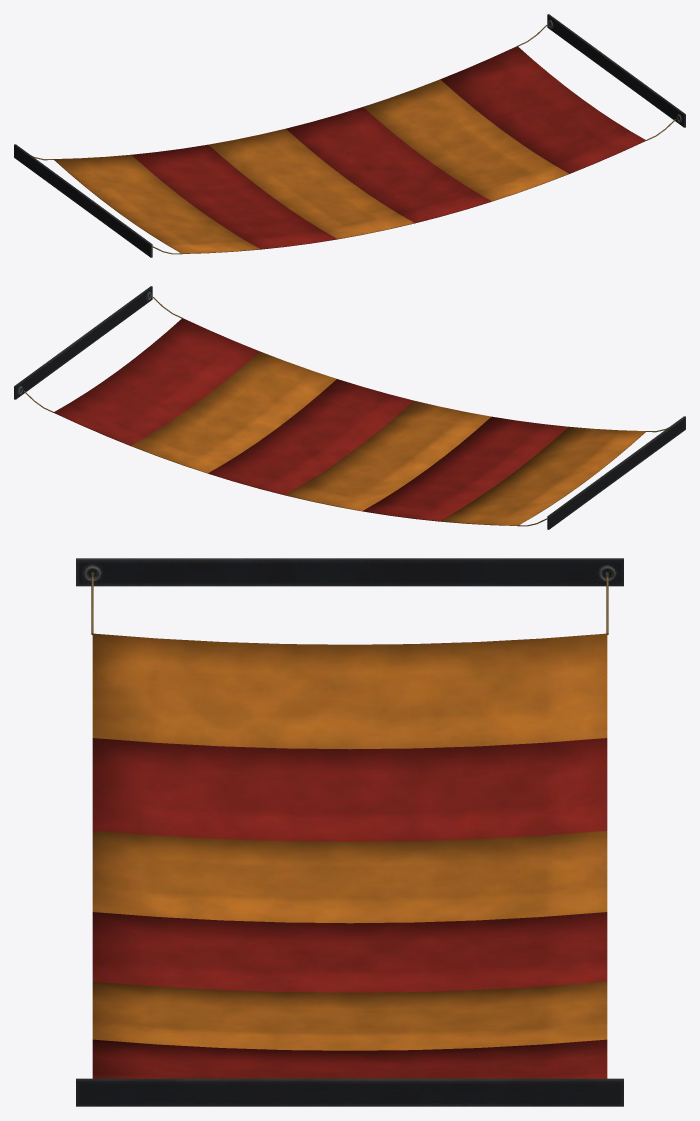
Rendered from street_awning.glb.
The picture shows the model from 3 angles, top to bottom: view 1: azimuth 30°, elevation 25°; view 2: azimuth 150°, elevation 25°; view 3: azimuth 270°, elevation 25°; orthographic projection. The views are drawn at different scales.
Parts seen in each view (by area): view 1: street_awning; view 2: street_awning; view 3: street_awning.
Boxes of the visible parts, bbox=[...] form: street_awning: bbox=[14, 14, 685, 257]; street_awning: bbox=[14, 286, 685, 529]; street_awning: bbox=[76, 558, 623, 1106].
Bounding box in the file's own units: 6 × 0.564 × 2.66.
1 material, 1 textured.
